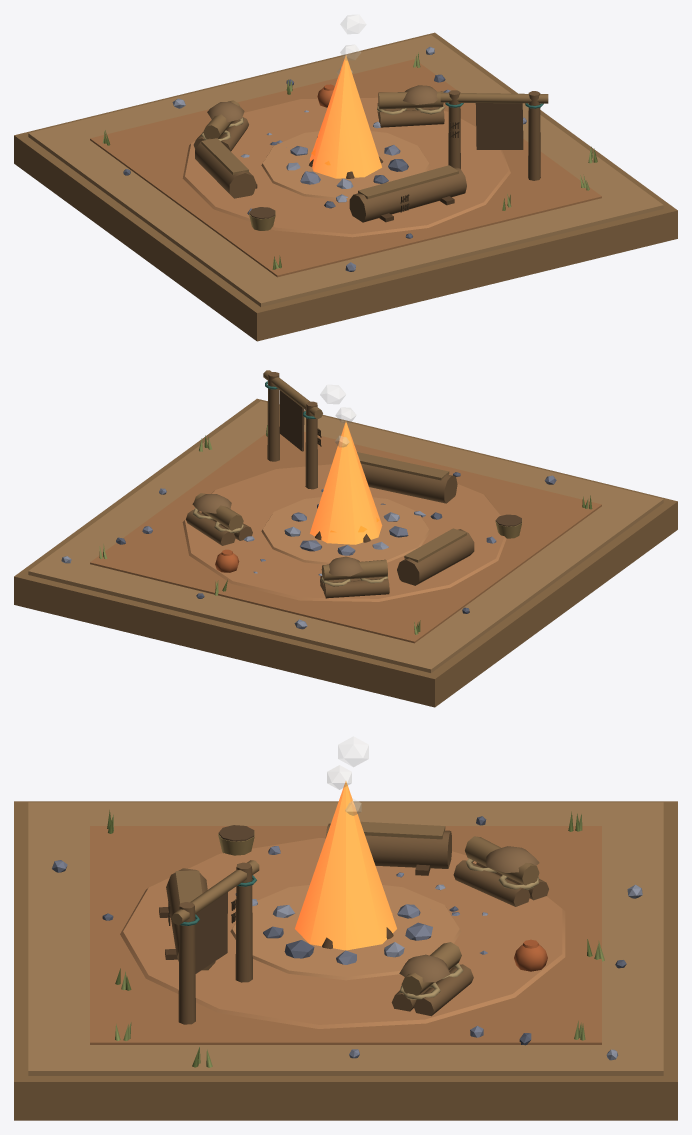
Rendered from civic-campfire-built.glb.
3 renders of one model, top to bottom at view 1: azimuth 30°, elevation 25°; view 2: azimuth 150°, elevation 25°; view 3: azimuth 270°, elevation 25°, orthographic. The views are drawn at different scales.
Visible parts, largest first — view 1: mesh_1, mesh_0, mesh_20, mesh_21, Era1DepthKit, mesh_22, mesh_53, mesh_88, mesh_67, mesh_54, mesh_85, mesh_87 (+6 smaller); view 2: mesh_1, mesh_0, mesh_20, mesh_21, mesh_22, Era1DepthKit, mesh_53, mesh_67, mesh_88, mesh_85, mesh_83, mesh_54 (+8 smaller); view 3: mesh_1, mesh_20, mesh_0, mesh_21, Era1DepthKit, mesh_22, mesh_67, mesh_88, mesh_85, mesh_83, mesh_78, mesh_71 (+10 smaller).
Boxes of the visible parts, x1,y1,x2,y2 form: mesh_1: (28,35,663,306); mesh_0: (14,32,677,341); mesh_20: (90,59,601,277); mesh_21: (182,97,510,237); Era1DepthKit: (309,55,381,178); mesh_22: (261,131,430,200); mesh_53: (349,167,466,222); mesh_88: (475,103,523,149); mesh_67: (195,138,256,198); mesh_54: (358,165,458,199); mesh_85: (528,91,540,180); mesh_87: (440,92,548,103); mesh_1: (28,401,663,672); mesh_0: (14,398,677,707); mesh_20: (90,426,601,643); mesh_21: (182,464,506,601); mesh_22: (261,497,430,564); Era1DepthKit: (310,421,382,544); mesh_53: (361,463,457,503); mesh_67: (397,529,474,585); mesh_88: (279,390,304,451); mesh_85: (267,372,279,461); mesh_83: (305,401,317,489); mesh_54: (357,452,449,480); mesh_1: (28,802,663,1075); mesh_20: (90,826,601,1044); mesh_0: (14,801,677,1120); mesh_21: (120,838,565,1028); Era1DepthKit: (295,781,396,950); mesh_22: (230,885,461,980); mesh_67: (325,823,451,868); mesh_88: (195,892,227,973); mesh_85: (178,902,195,1024); mesh_83: (235,862,252,982); mesh_78: (453,860,530,906); mesh_71: (413,964,473,1016).
Bounding box in the file's own units: 14 × 6.12 × 14.
